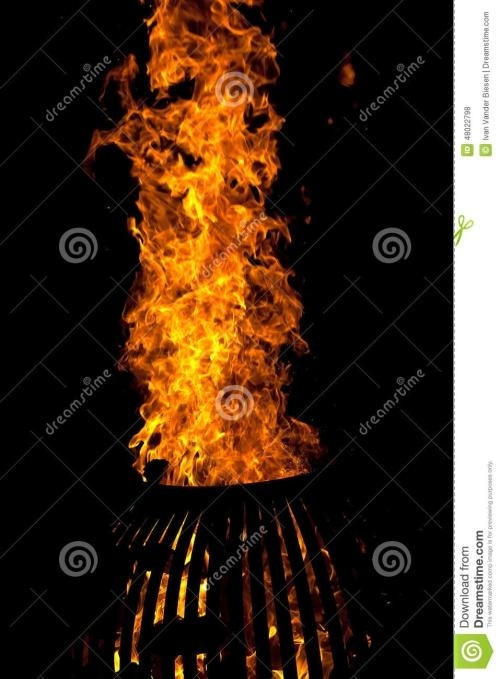fire: (76, 11, 329, 492), (112, 509, 363, 679)
